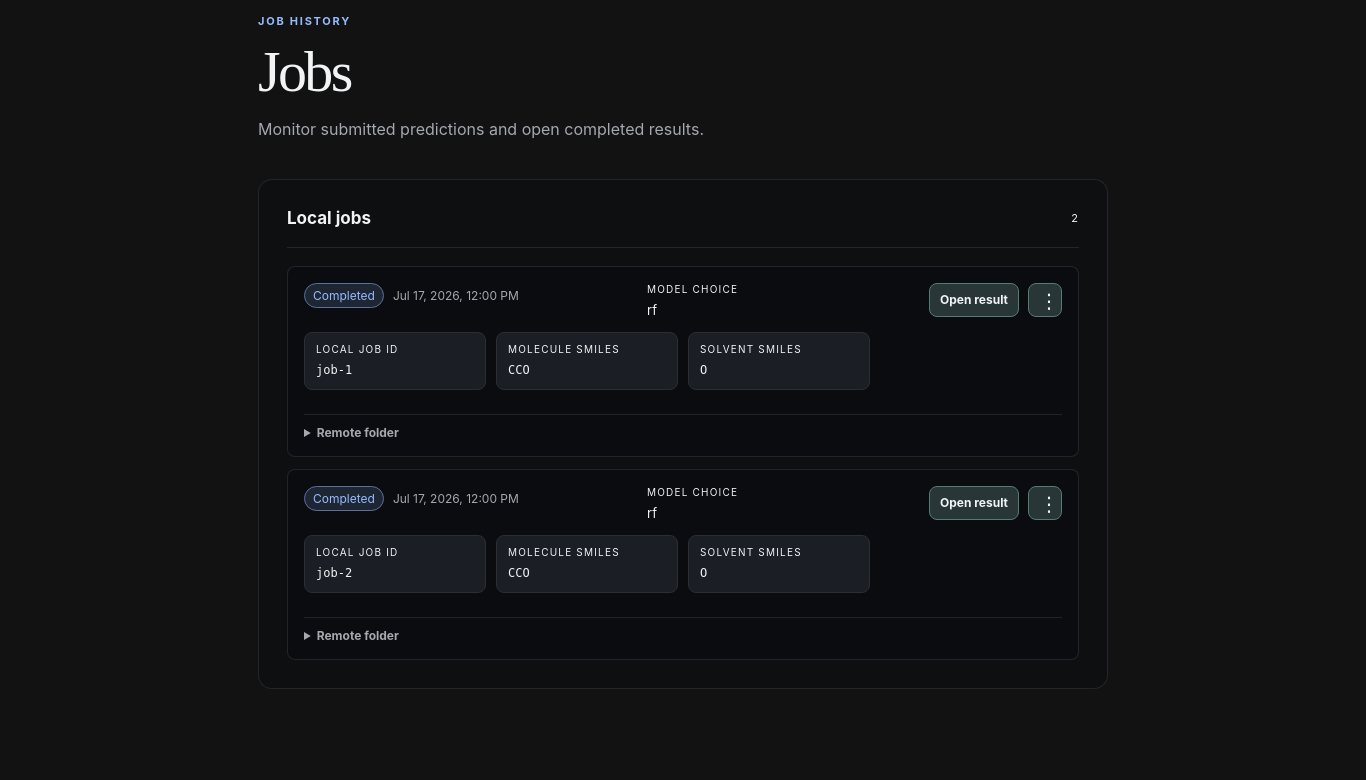
Test: JobsPage recovery actions › opens only one overflow menu at a time and closes on outside click and Escape
Step 1. Click the button named "More actions for job job-1" → [1045, 300], box [1028,282,1062,316]
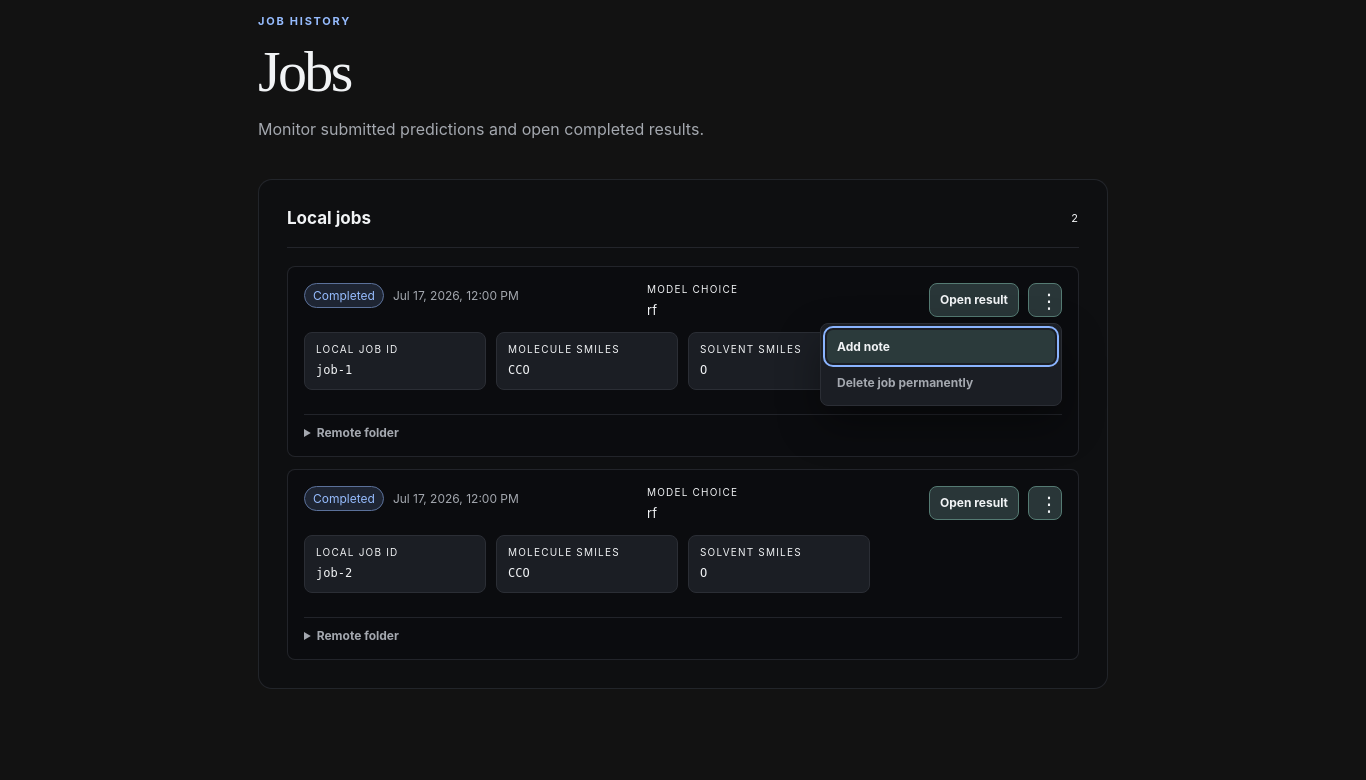
Expected: the menu named "Actions for job job-1" is shown, [820,322,1062,406]
Step 2. Click the button named "More actions for job job-2" → [1045, 503], box [1028,486,1062,520]
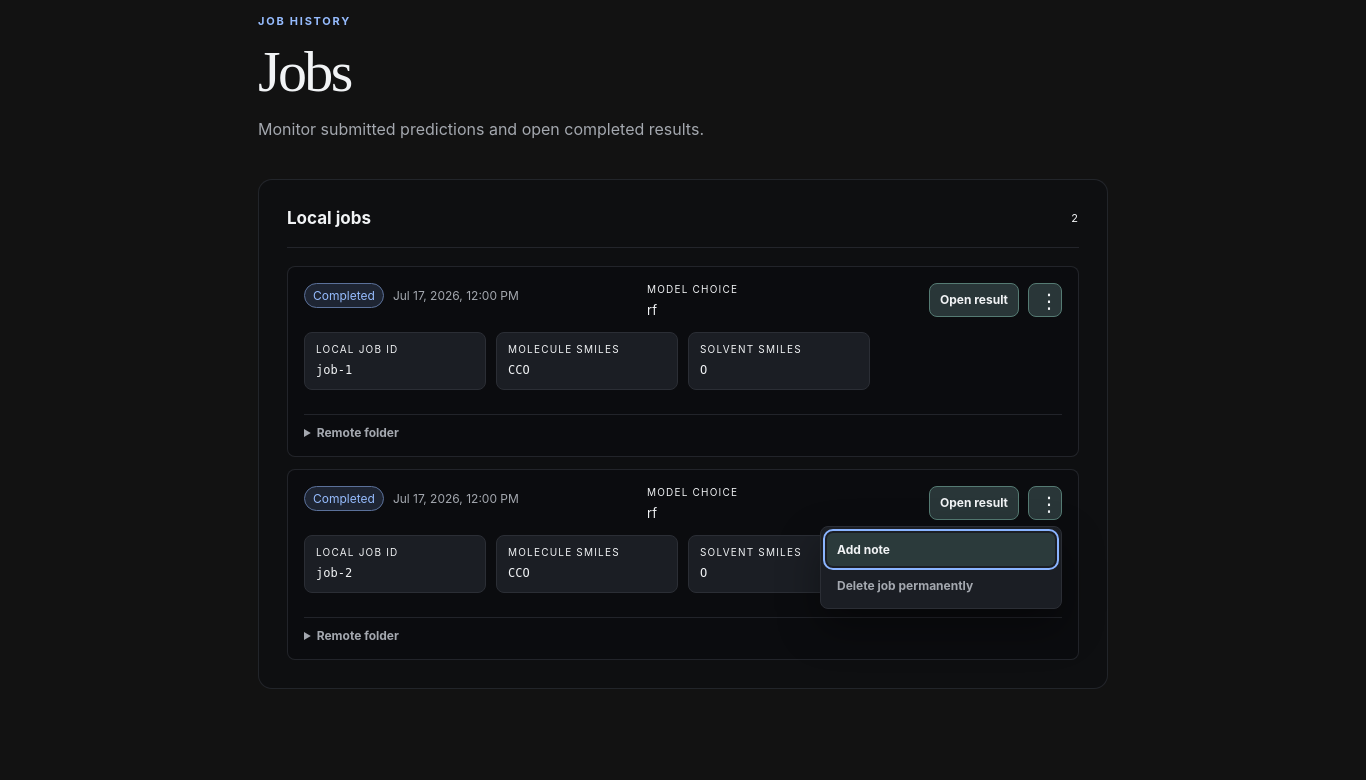
Expected: the menu named "Actions for job job-2" is shown, [820,526,1062,609]
Step 3. Press the mouse on the element that starts with "Job history" → [683, 396], box [0,12,1365,779]
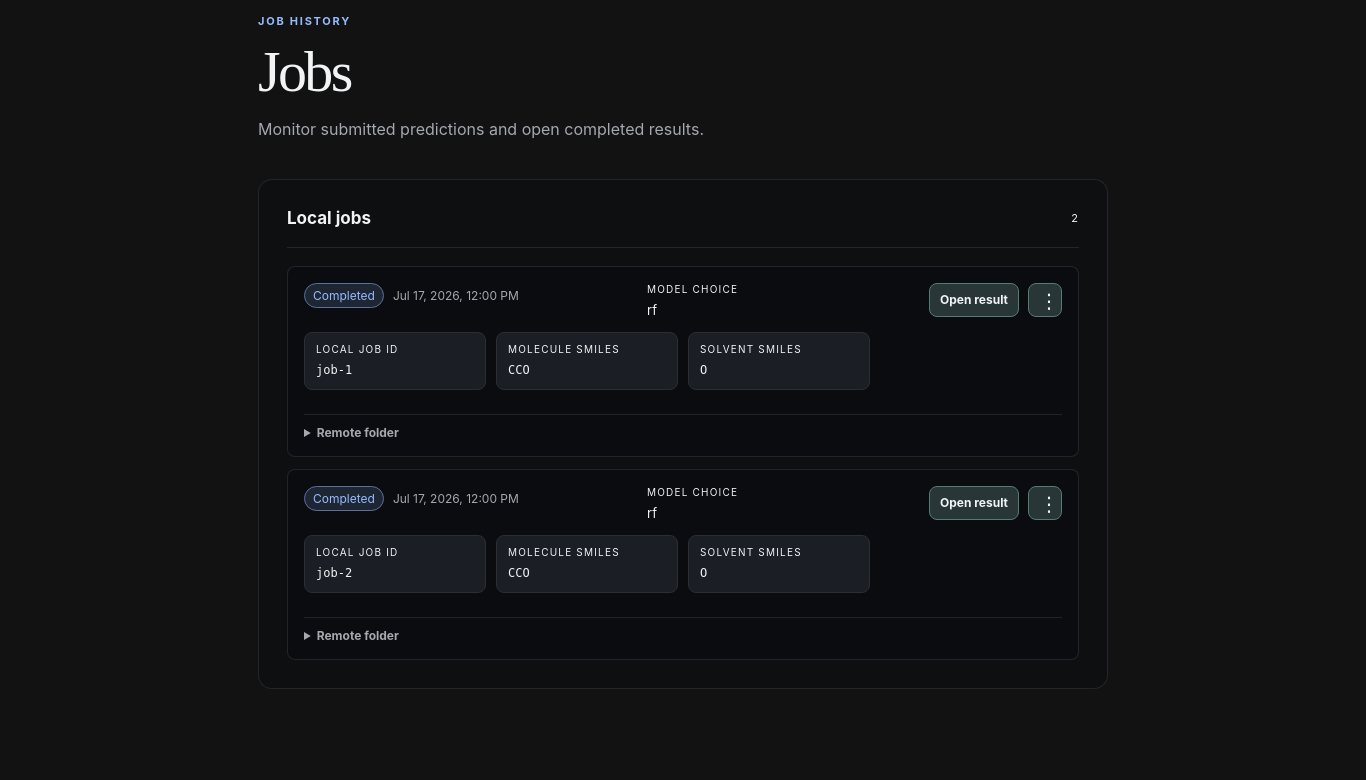
Expected: the menu is gone
Step 4. Click the button named "More actions for job job-1" → [1045, 300], box [1028,282,1062,316]
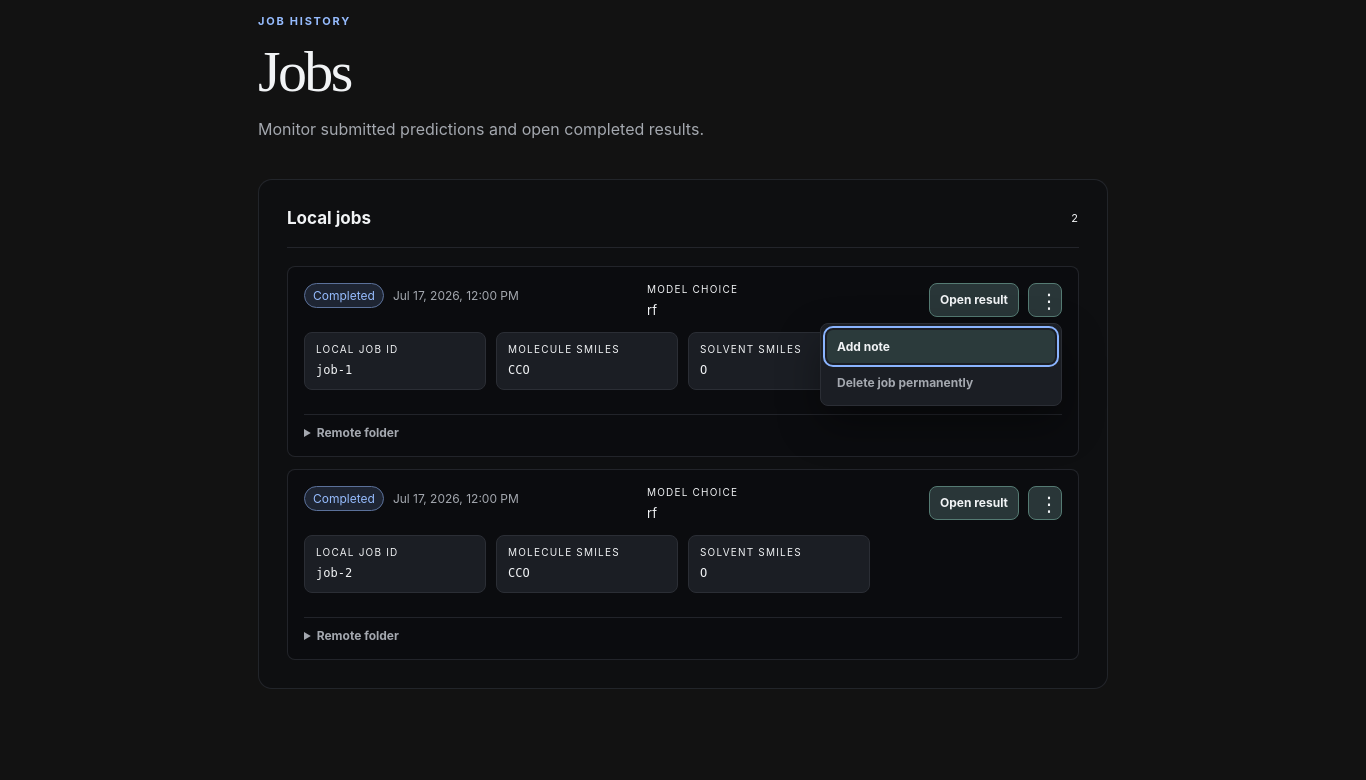
Step 5. Press Escape
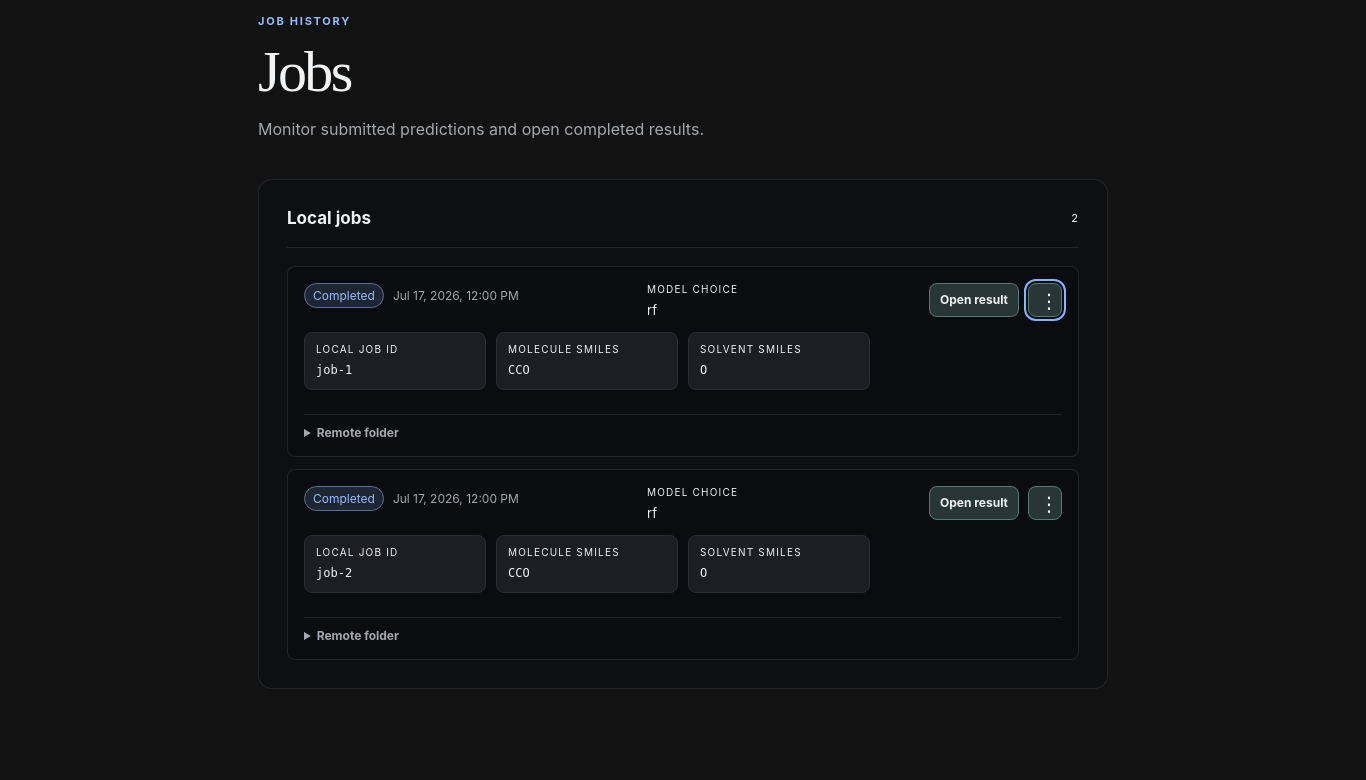
Expected: the menu is gone
